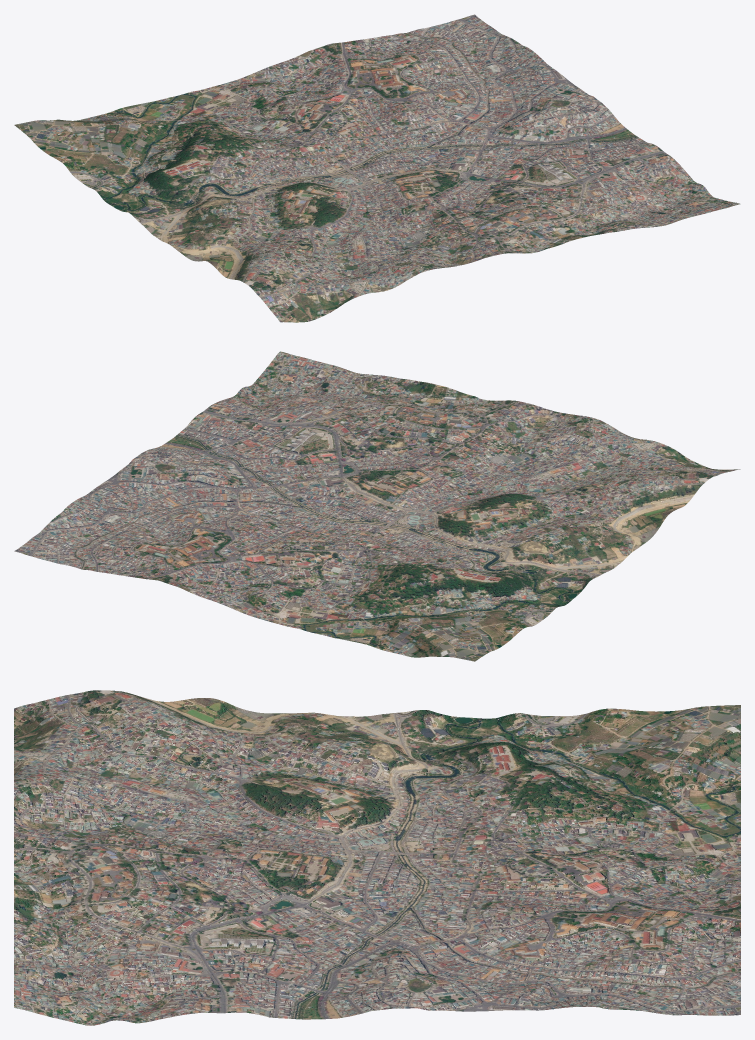
The model's file is terrain_real_T_W01_N00.glb.
3 renders of one model, top to bottom at view 1: azimuth 30°, elevation 25°; view 2: azimuth 150°, elevation 25°; view 3: azimuth 270°, elevation 25°, orthographic. The views are drawn at different scales.
Visible parts, largest first — view 1: TerrainReal_T_W01_N00; view 2: TerrainReal_T_W01_N00; view 3: TerrainReal_T_W01_N00.
Part boxes in pixels (box(x1,y1,x2,y2)): TerrainReal_T_W01_N00: box(14, 14, 740, 322); TerrainReal_T_W01_N00: box(14, 351, 740, 661); TerrainReal_T_W01_N00: box(14, 690, 740, 1025).
Bounding box in the file's own units: 2000 × 102 × 2000.
Materials: 1 (1 with a texture image).
